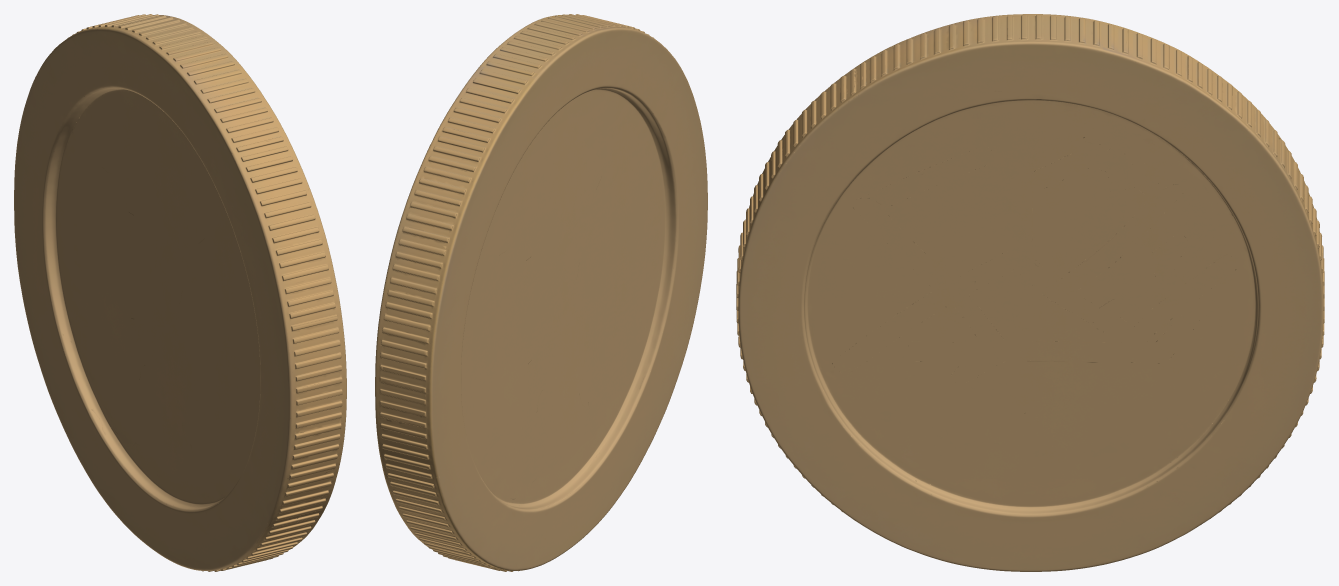
Rendered from Coin.glb.
3 views of the same model, side by side, from view 1: azimuth 30°, elevation 25°; view 2: azimuth 150°, elevation 25°; view 3: azimuth 270°, elevation 25° (orthographic). The views are drawn at different scales.
Parts seen in each view (by area): view 1: texture_pbr_v128; view 2: texture_pbr_v128; view 3: texture_pbr_v128.
Part boxes in pixels (x1,y1,x2,y2): texture_pbr_v128: (14,14,346,571); texture_pbr_v128: (375,14,707,571); texture_pbr_v128: (736,14,1324,571).
Bounding box in the file's own units: 0.1402 × 1.18 × 1.18.
1 material, 1 textured.
